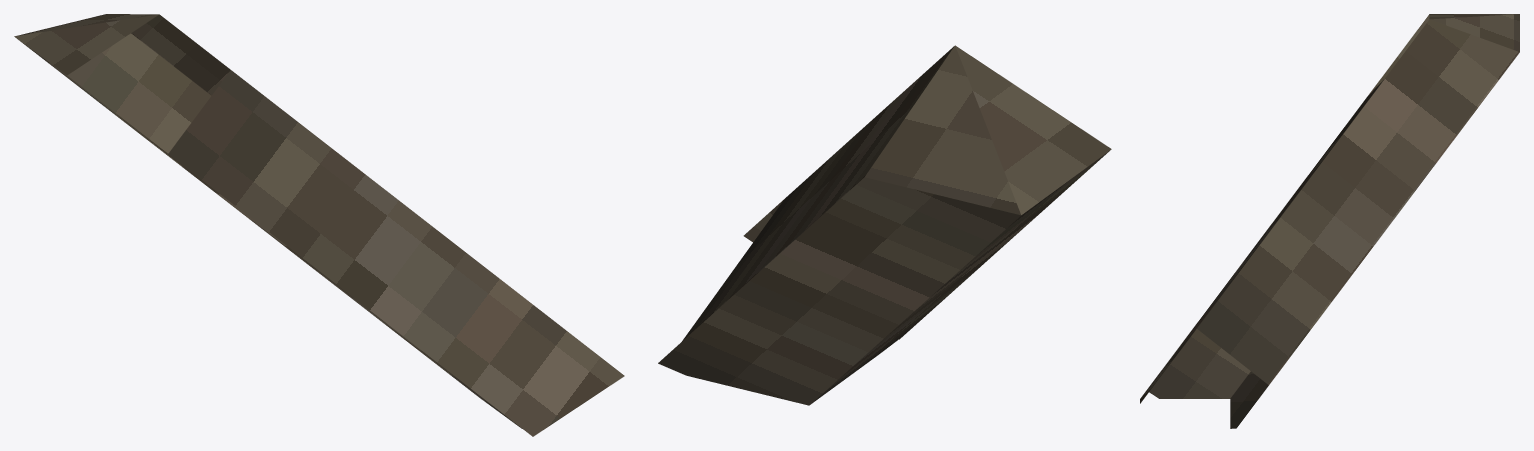
File: oak_thin_branch_45_diagonal.obj
3 views of the same model, side by side, from view 1: azimuth 30°, elevation 25°; view 2: azimuth 150°, elevation 25°; view 3: azimuth 270°, elevation 25° (orthographic). The views are drawn at different scales.
Parts seen in each view (by area): view 1: cube_selection; view 2: cube_selection; view 3: cube_selection.
Boxes of the visible parts, <box> form: cube_selection: <box>14,14,624,436</box>; cube_selection: <box>658,45,1111,405</box>; cube_selection: <box>1140,14,1519,428</box>.
Size of the model in its own units: 1.31 by 1.12 by 1.31.
